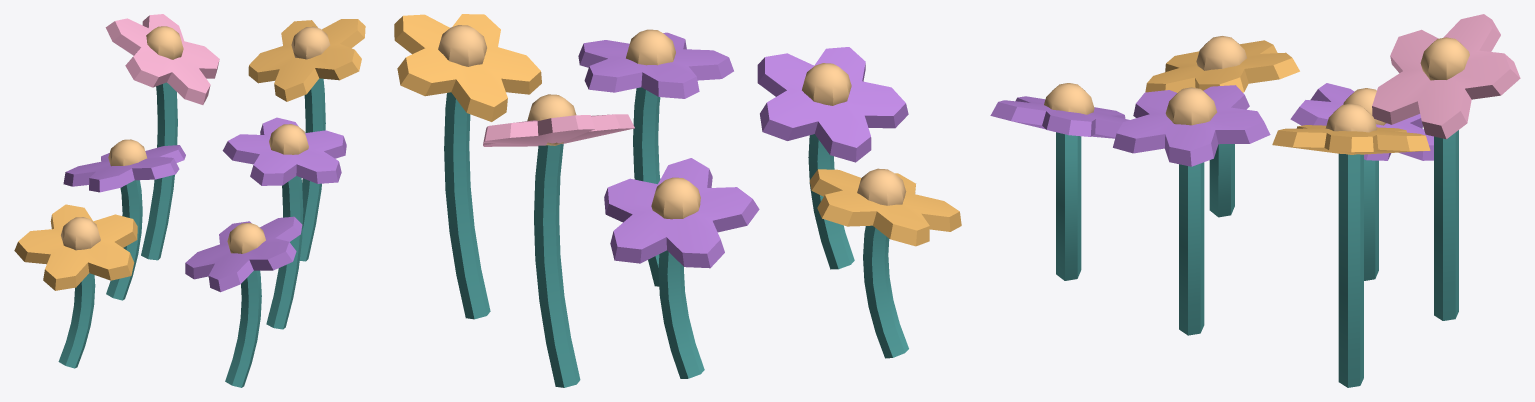
File: CandyFlower_Patch.fbx
3 renders of one model, left to right at view 1: azimuth 30°, elevation 25°; view 2: azimuth 150°, elevation 25°; view 3: azimuth 270°, elevation 25°, orthographic. The views are drawn at different scales.
Visible parts, largest first — view 1: CandyFlower_Patch; view 2: CandyFlower_Patch; view 3: CandyFlower_Patch.
Boxes of the visible parts, x1=… form: CandyFlower_Patch: x1=14, y1=14, x2=365, y2=387; CandyFlower_Patch: x1=394, y1=14, x2=961, y2=387; CandyFlower_Patch: x1=990, y1=14, x2=1520, y2=387.
Size of the model in its own units: 2.99 by 1.73 by 2.86.
